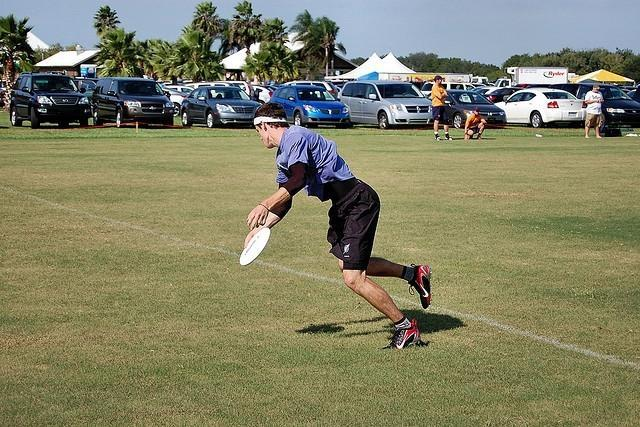car: (336, 79, 434, 130), (551, 83, 640, 130), (492, 87, 586, 127), (269, 85, 351, 129), (180, 86, 262, 128), (443, 89, 507, 129), (162, 86, 189, 116), (484, 87, 526, 104), (73, 79, 97, 100), (250, 86, 274, 104), (164, 86, 194, 96)
truck: (9, 72, 93, 130), (90, 78, 174, 128), (488, 67, 568, 89), (356, 71, 472, 83), (422, 81, 486, 95)
